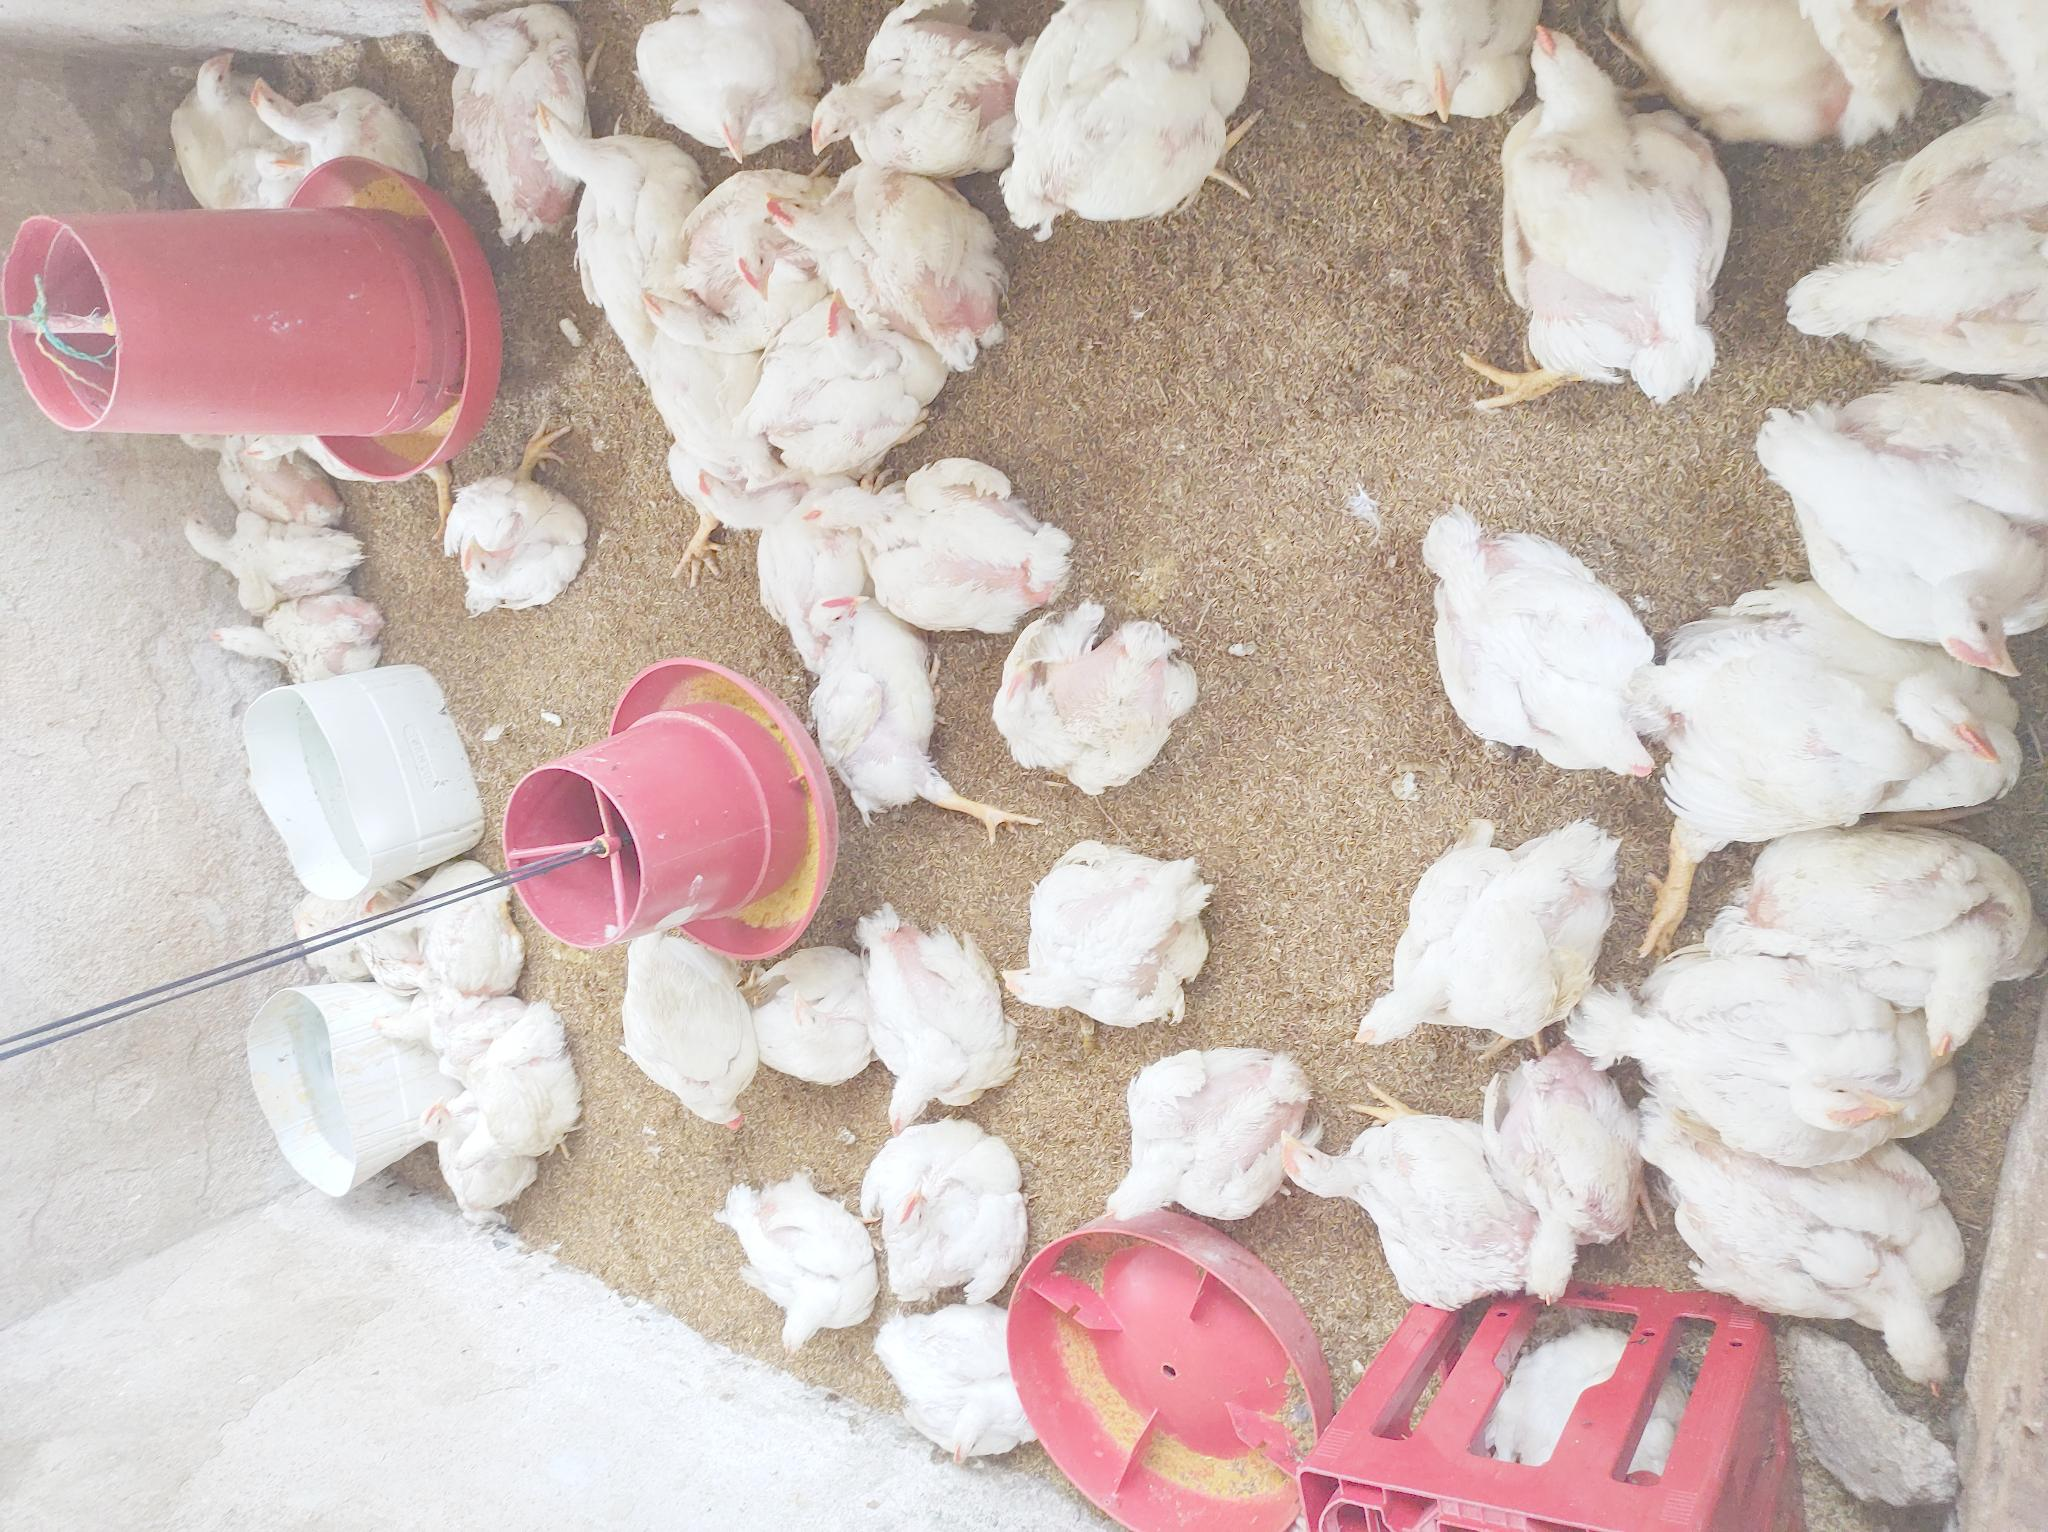Pollos: (1622, 1072, 1964, 1413), (1606, 574, 2032, 843), (1467, 11, 1725, 417), (1567, 941, 1958, 1175), (1749, 380, 2048, 681), (1704, 822, 2045, 1067), (1781, 101, 2048, 385), (1411, 500, 1663, 793), (1343, 814, 1623, 1065), (994, 0, 1252, 237), (1273, 1085, 1528, 1310), (758, 167, 1001, 372), (1606, 0, 1948, 143), (1478, 1023, 1646, 1315), (516, 93, 703, 354), (800, 465, 1083, 634), (994, 837, 1208, 1032), (1094, 1041, 1313, 1226), (418, 0, 587, 237), (800, 0, 1023, 179), (634, 269, 753, 602), (999, 608, 1202, 798), (854, 908, 1023, 1135), (743, 278, 943, 462), (801, 584, 951, 826), (693, 460, 877, 640), (610, 929, 766, 1135), (1306, 0, 1561, 126), (668, 146, 843, 327), (870, 1305, 1054, 1476), (718, 1170, 882, 1358), (634, 0, 817, 167), (864, 1115, 1018, 1307), (438, 473, 595, 620), (245, 64, 430, 188), (166, 43, 298, 211), (364, 863, 521, 1003), (450, 1004, 582, 1168), (175, 509, 372, 602), (750, 946, 878, 1086), (364, 986, 521, 1088), (413, 1101, 544, 1223), (203, 599, 381, 686), (182, 423, 330, 523), (285, 887, 381, 986), (238, 434, 396, 492)
